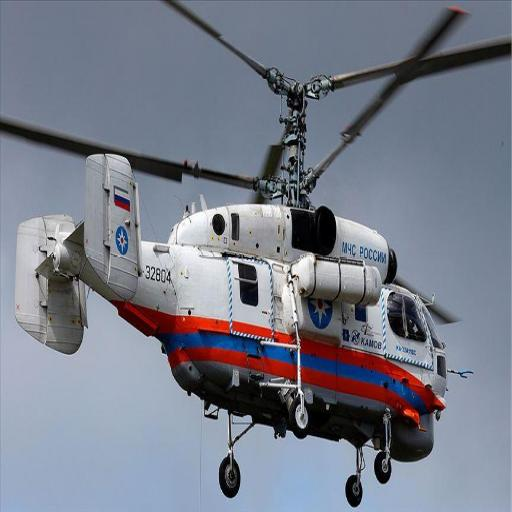helicopter: (14, 40, 474, 505)
